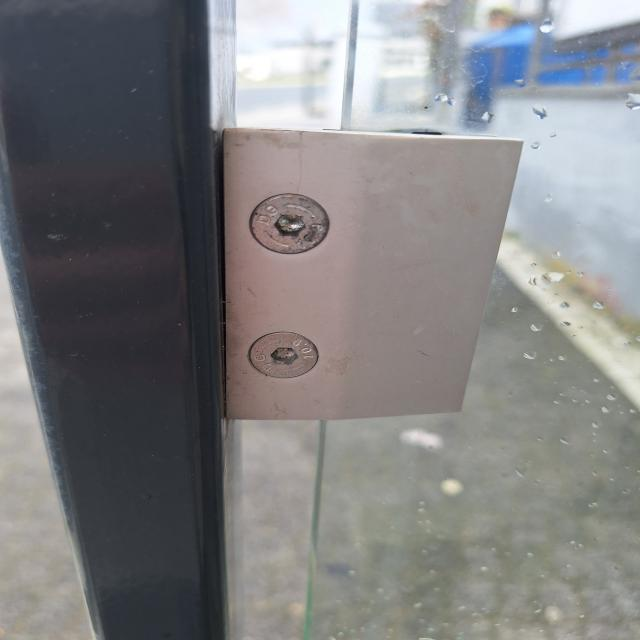Hex Socket Allen: (245, 190, 332, 257), (244, 331, 321, 378)
